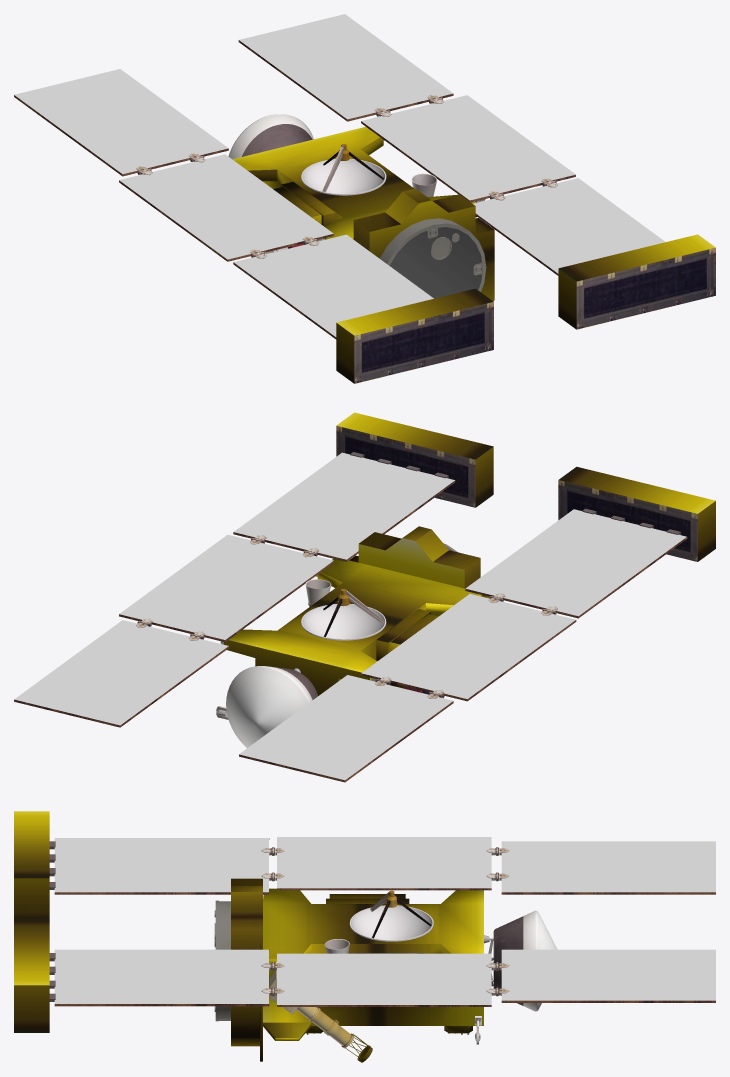
File: stardust.glb
3 views of the same model, one above another, from view 1: azimuth 30°, elevation 25°; view 2: azimuth 150°, elevation 25°; view 3: azimuth 270°, elevation 25° (orthographic).
Parts seen in each view (by area): view 1: shiny_panels, Stardust_tex_01, gold_foil2, gold_foil, foil_silver, Stardust_tex_03, Stardust_tex_02, Stardust_tex_01_c, Stardust_tex_01_c2; view 2: shiny_panels, gold_foil, Stardust_tex_01, gold_foil2, Stardust_tex_01_c2, Stardust_tex_03; view 3: shiny_panels, gold_foil, gold_foil2, Stardust_tex_01, Stardust_tex_03, Stardust_tex_02, Stardust_tex_01_c, Stardust_tex_01_c2.
Boxes of the visible parts, <box> form: shiny_panels: <box>14,14,665,336</box>; Stardust_tex_01: <box>14,40,715,383</box>; gold_foil2: <box>273,182,715,383</box>; gold_foil: <box>232,126,494,301</box>; foil_silver: <box>389,227,481,298</box>; Stardust_tex_03: <box>301,144,386,195</box>; Stardust_tex_02: <box>288,218,486,291</box>; Stardust_tex_01_c: <box>242,124,312,156</box>; Stardust_tex_01_c2: <box>228,114,313,159</box>; shiny_panels: <box>14,452,686,780</box>; gold_foil: <box>224,538,481,695</box>; Stardust_tex_01: <box>14,426,697,782</box>; gold_foil2: <box>336,412,715,660</box>; Stardust_tex_01_c2: <box>226,666,312,747</box>; Stardust_tex_03: <box>301,589,386,640</box>; shiny_panels: <box>54,837,715,1004</box>; gold_foil: <box>263,888,483,1040</box>; gold_foil2: <box>14,811,472,1062</box>; Stardust_tex_01: <box>49,838,715,1057</box>; Stardust_tex_03: <box>349,890,433,941</box>; Stardust_tex_02: <box>214,900,493,1048</box>; Stardust_tex_01_c: <box>493,916,523,1005</box>; Stardust_tex_01_c2: <box>523,910,557,1011</box>.
Size of the model in its own units: 2.94 by 1.17 by 5.01.
Materials: 11 (9 with a texture image).
